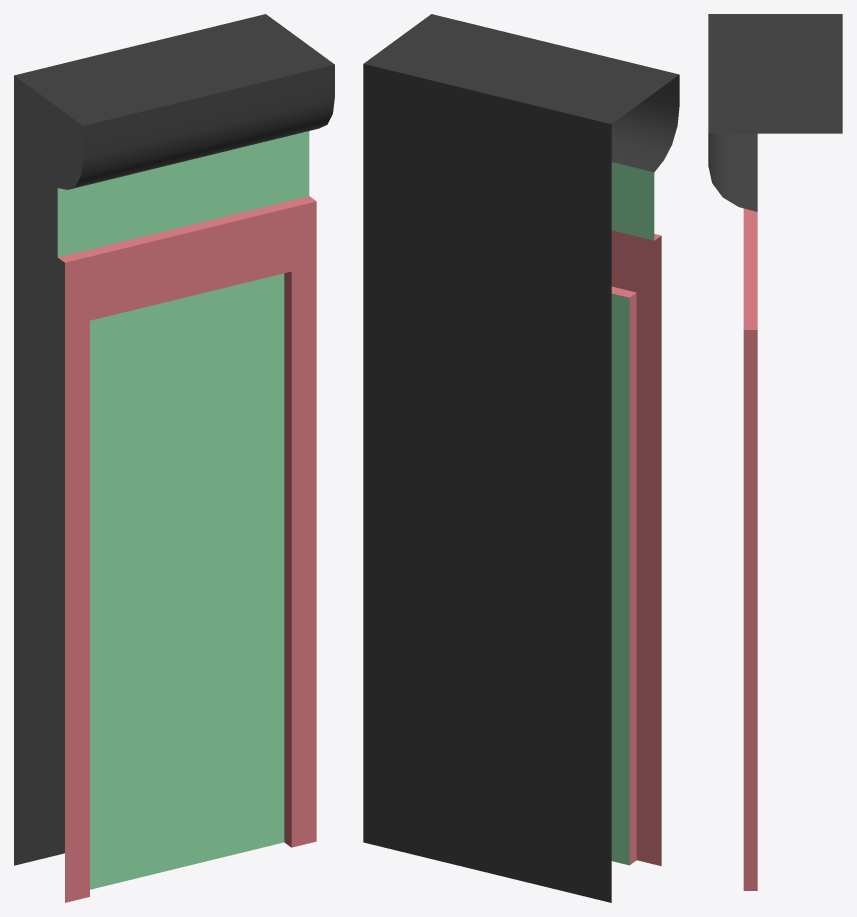
The model's file is ShipWall1m.fbx.
3 views of the same model, side by side, from view 1: azimuth 30°, elevation 25°; view 2: azimuth 150°, elevation 25°; view 3: azimuth 270°, elevation 25° (orthographic). The views are drawn at different scales.
Visible parts, largest first — view 1: Wall1m; view 2: Wall1m; view 3: Wall1m.
Part boxes in pixels (bbox=[...]): Wall1m: bbox=[14, 14, 334, 902]; Wall1m: bbox=[363, 14, 679, 902]; Wall1m: bbox=[708, 14, 842, 890].
Bounding box in the file's own units: 1 × 3 × 0.475.
